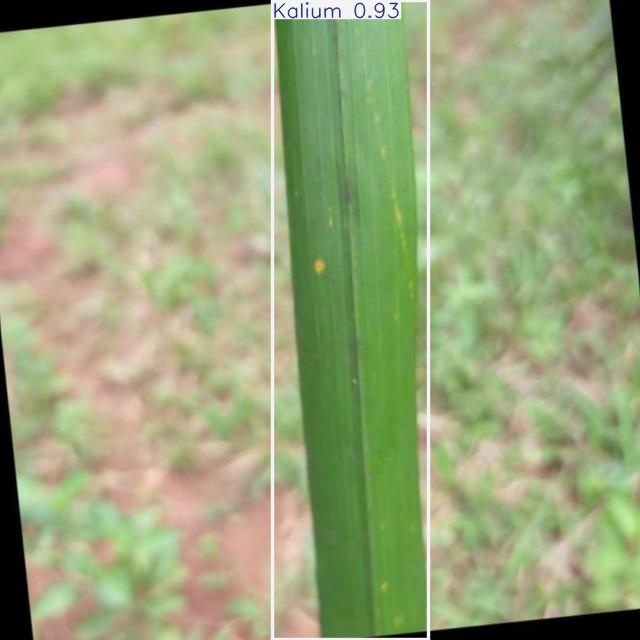Kalium: (272, 0, 429, 640)
